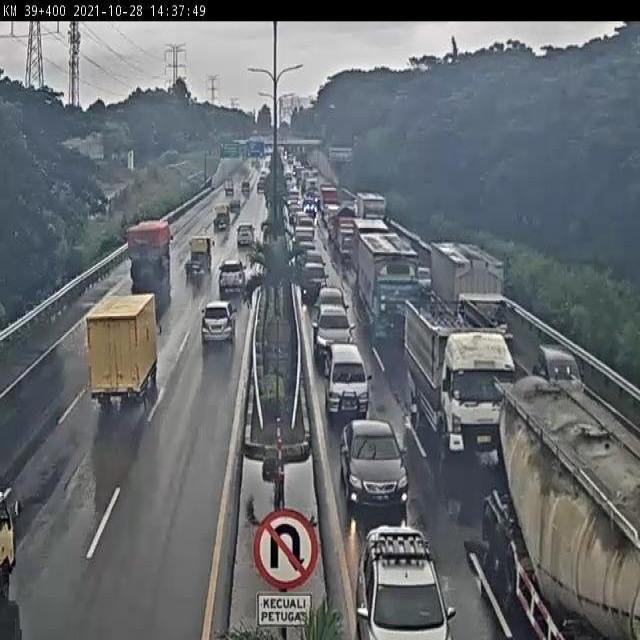truck-l-: (407, 294, 518, 454), (429, 239, 511, 353), (358, 232, 423, 335), (126, 218, 172, 274)
truck-m-: (83, 293, 159, 396)
truck-s-: (183, 233, 215, 279), (213, 204, 232, 235)
